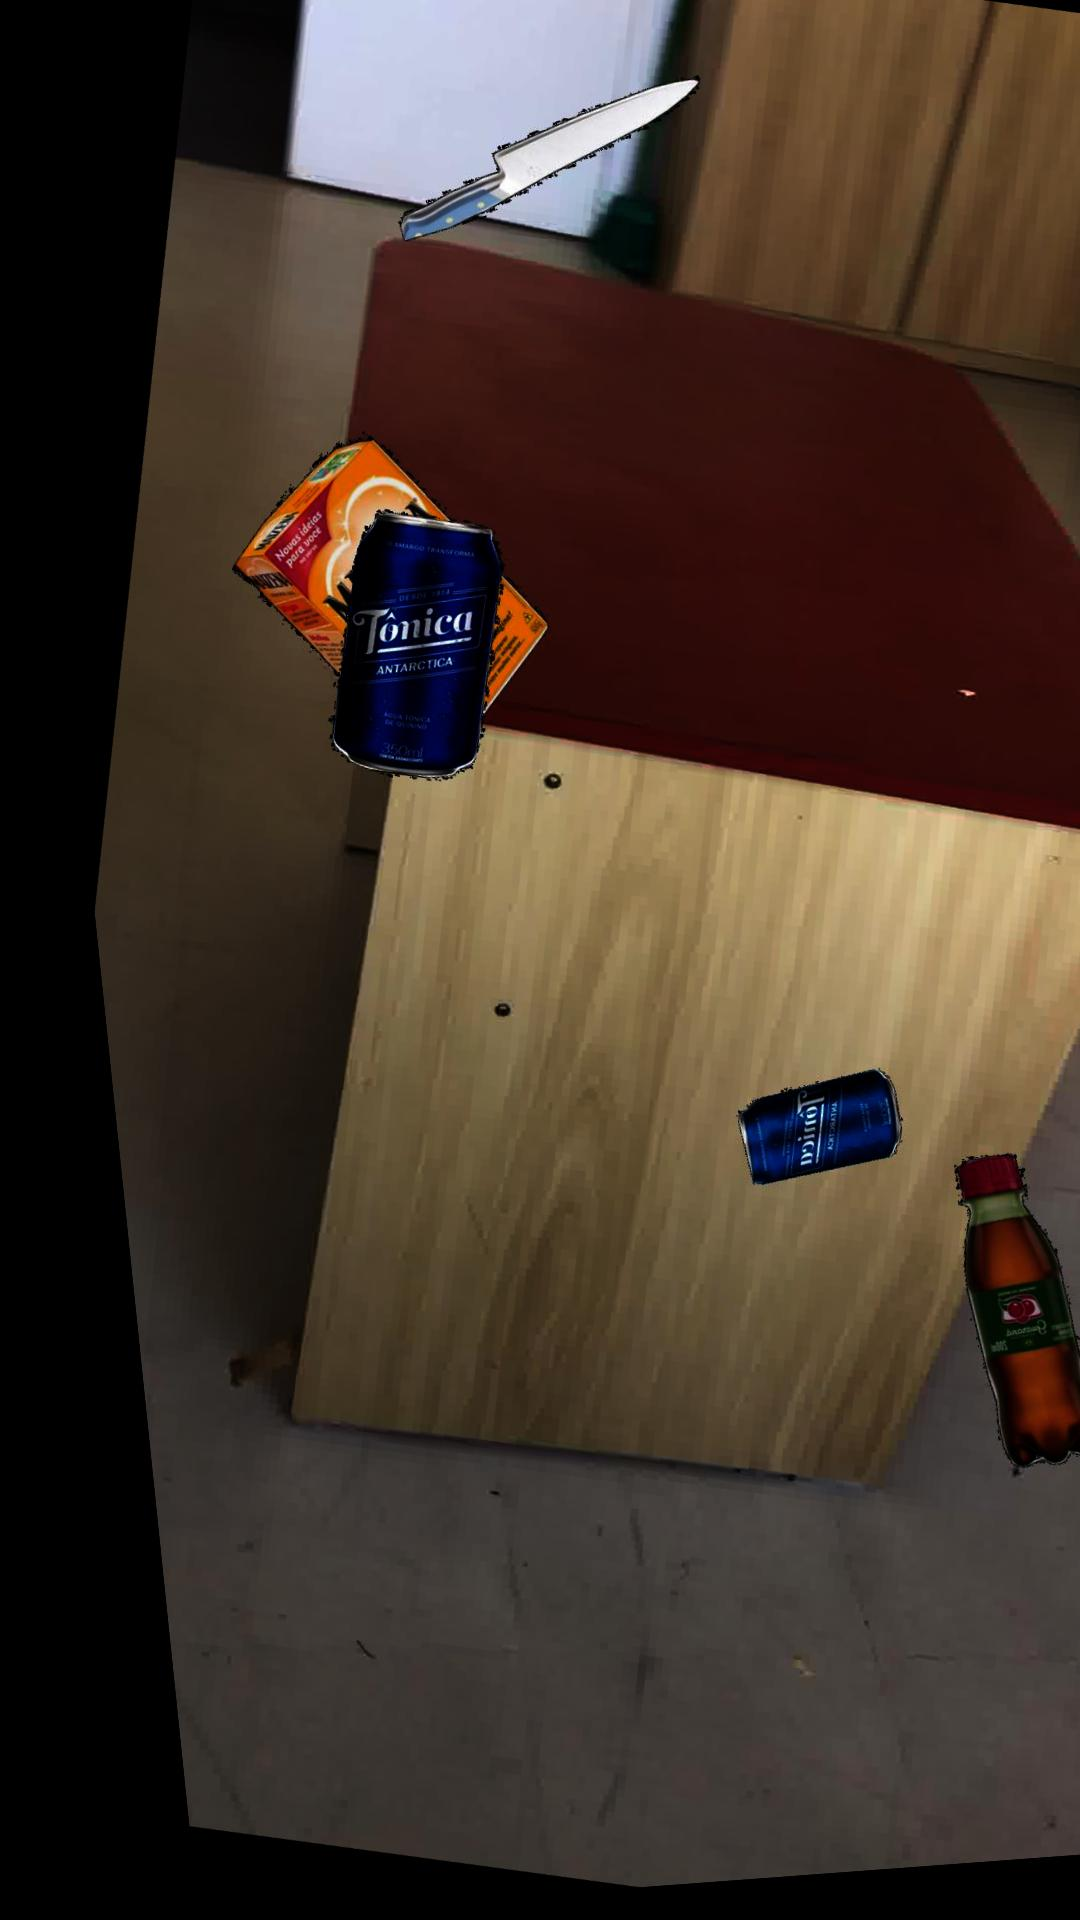guarana: (928, 1164, 1068, 1478)
knife: (393, 86, 696, 244)
tonic: (313, 513, 492, 783), (712, 1080, 876, 1192)
